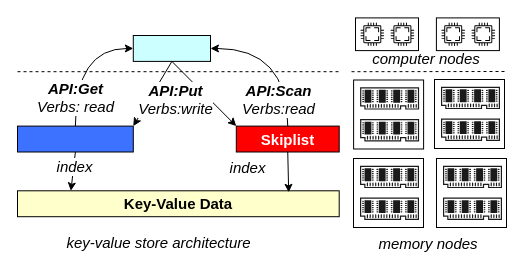
The diagram is 524 pixels wide and 273 high, and some of its shapes have lost their labels. The shapes that lost their labels are listed below. From the top down, each one's centre as x and y in pixels, then its label:
the point at 171,47: Client
the point at 74,138: Hash Table
